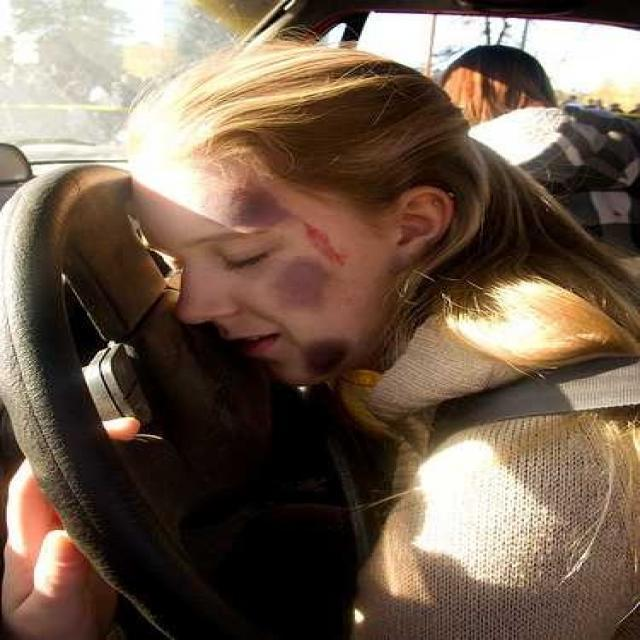seatbelt: (416, 329, 623, 442)
